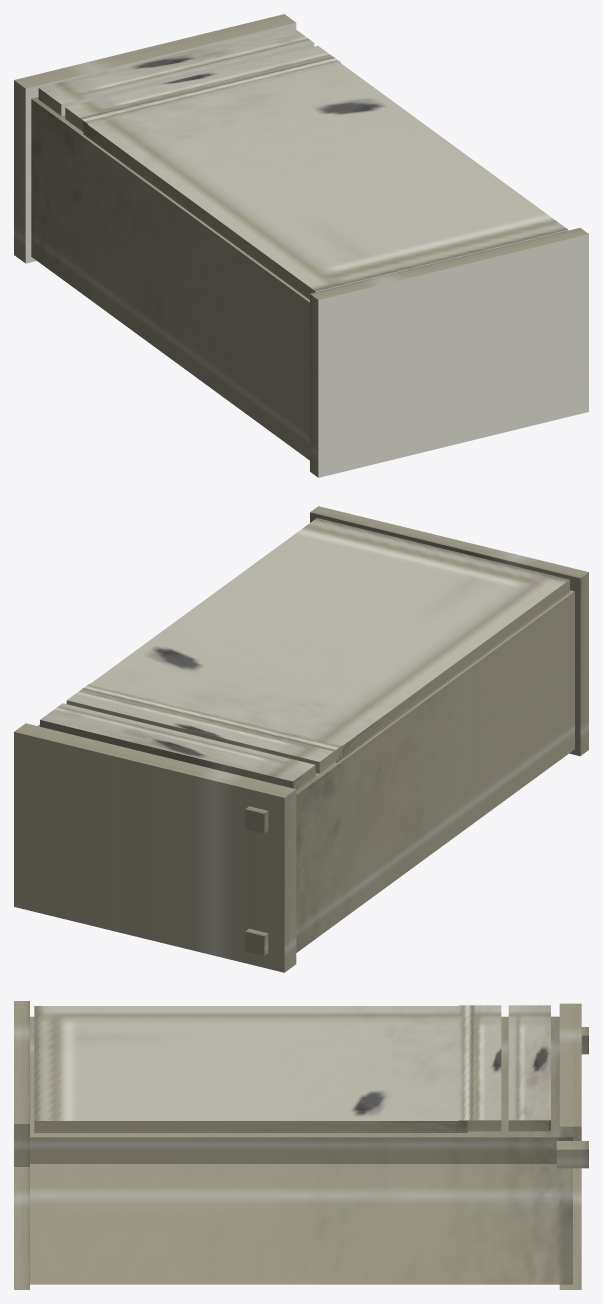
Rendered from pz_wardrobe_storage_01_fancy_white_0_0.obj.
3 renders of one model, top to bottom at view 1: azimuth 30°, elevation 25°; view 2: azimuth 150°, elevation 25°; view 3: azimuth 270°, elevation 25°, orthographic. The views are drawn at different scales.
Bounding box in the file's own units: 0.995 × 0.625 × 1.96.
Materials: 1 (1 with a texture image).
